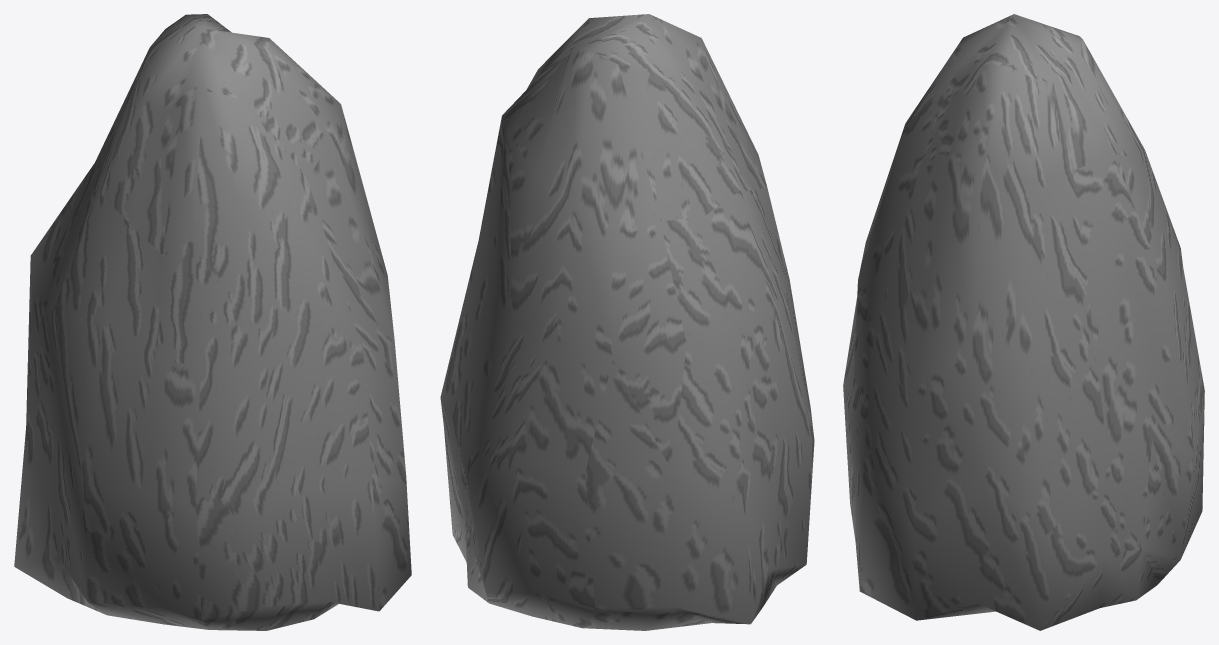
The model's file is stone_tall.FBX.
3 renders of one model, left to right at view 1: azimuth 30°, elevation 25°; view 2: azimuth 150°, elevation 25°; view 3: azimuth 270°, elevation 25°, orthographic. The views are drawn at different scales.
Visible parts, largest first — view 1: Sphere002; view 2: Sphere002; view 3: Sphere002.
Boxes of the visible parts, x1,y1,x2,y2 form: Sphere002: [14, 14, 411, 630]; Sphere002: [440, 14, 814, 630]; Sphere002: [843, 14, 1204, 630].
Bounding box in the file's own units: 56.65 × 90.39 × 55.75.
Materials: 1 (1 with a texture image).
